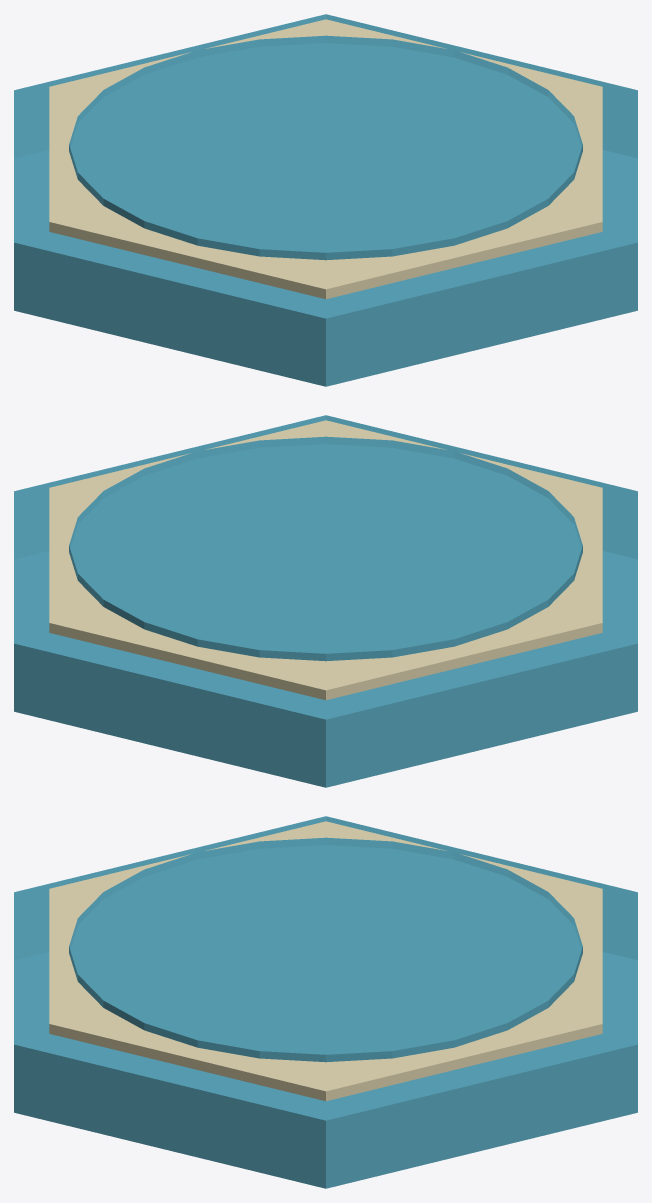
File: terrain-water-lod1.glb
The picture shows the model from 3 angles, top to bottom: view 1: azimuth 30°, elevation 25°; view 2: azimuth 150°, elevation 25°; view 3: azimuth 270°, elevation 25°; orthographic projection.
Parts seen in each view (by area): view 1: water_surface, hex_basin_side, shallow_sand_ring; view 2: water_surface, hex_basin_side, shallow_sand_ring; view 3: water_surface, hex_basin_side, shallow_sand_ring.
Boxes of the visible parts, left/top/right/bottom form: water_surface: left=69, top=35, right=582, bottom=260; hex_basin_side: left=14, top=14, right=637, bottom=386; shallow_sand_ring: left=49, top=19, right=602, bottom=299; water_surface: left=69, top=436, right=582, bottom=661; hex_basin_side: left=14, top=415, right=637, bottom=787; shallow_sand_ring: left=49, top=420, right=602, bottom=700; water_surface: left=69, top=837, right=582, bottom=1062; hex_basin_side: left=14, top=816, right=637, bottom=1188; shallow_sand_ring: left=49, top=821, right=602, bottom=1101.
Size of the model in its own units: 2.3 by 0.318 by 1.99.
